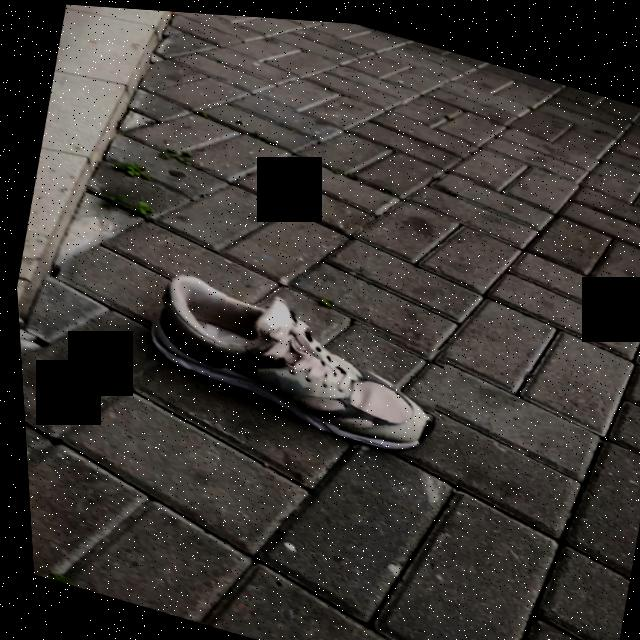shoe: (145, 273, 427, 446)
